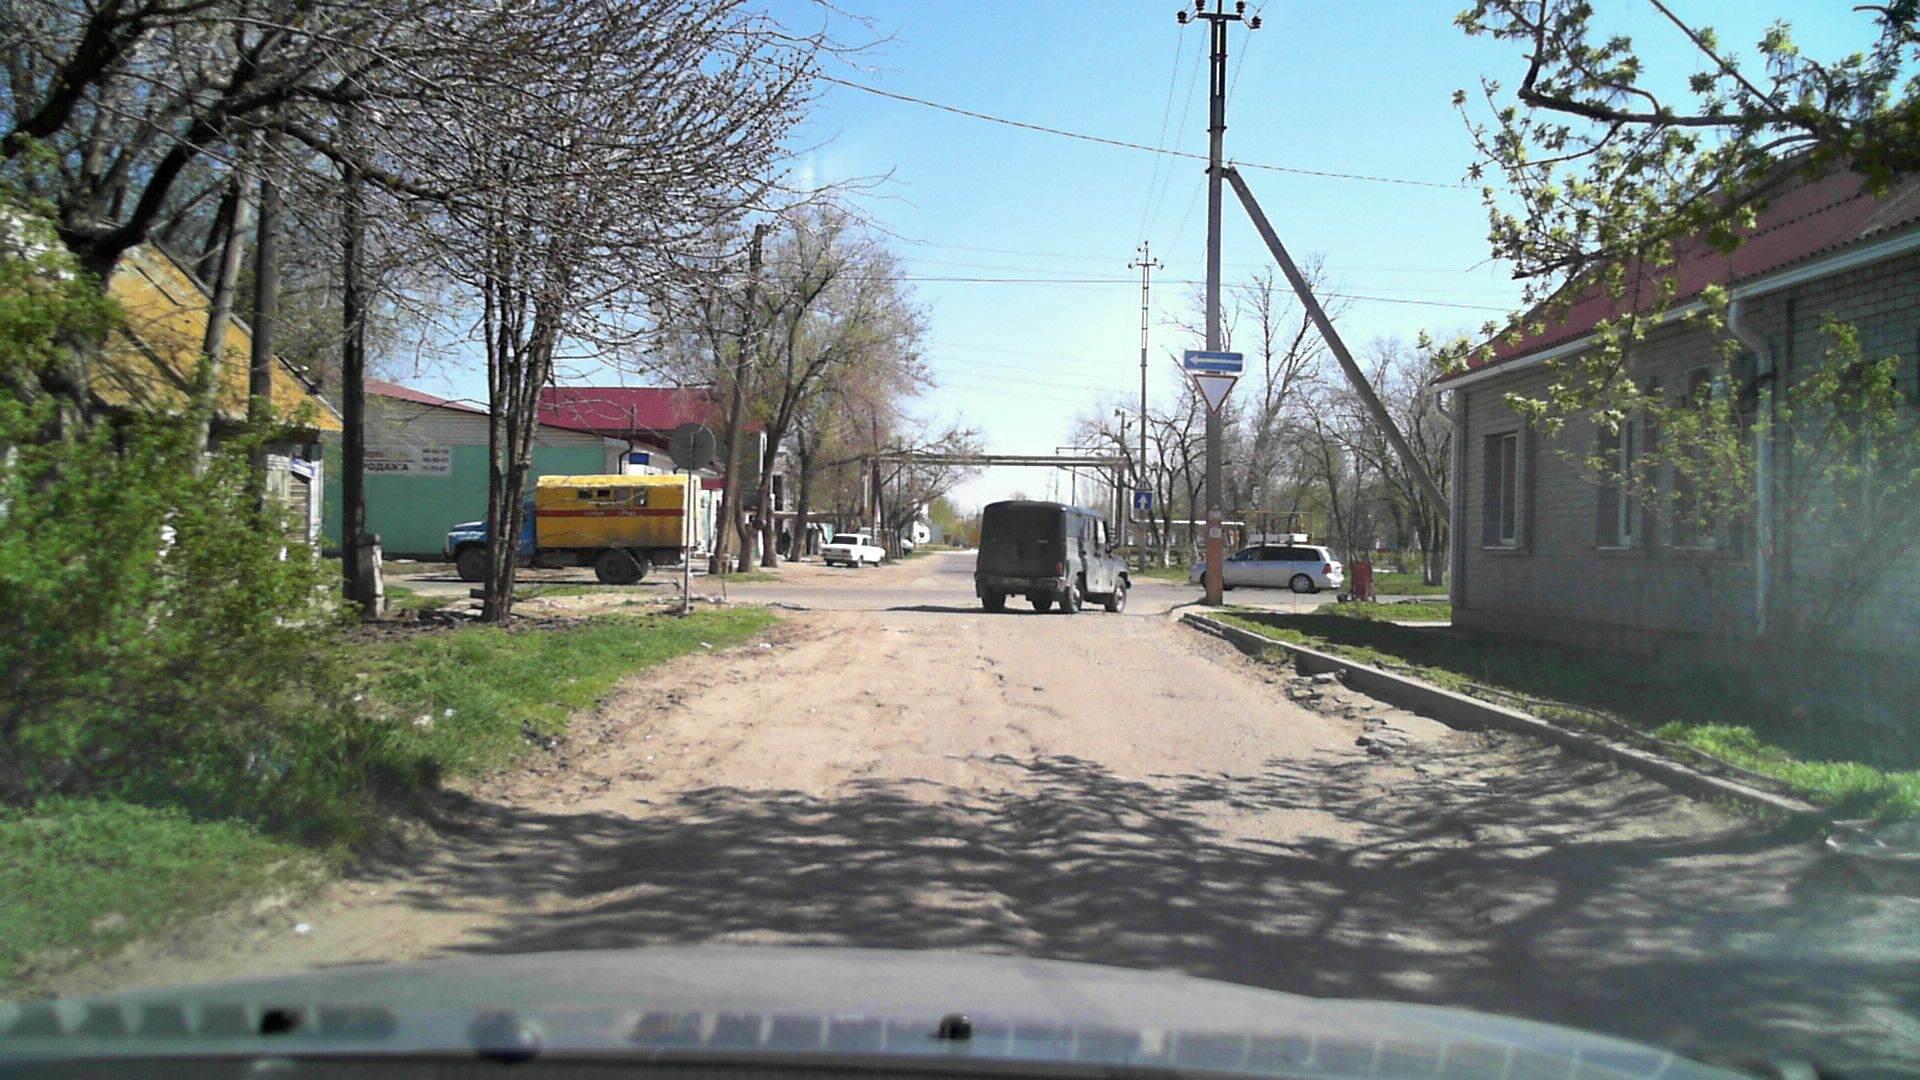One-Way Traffic: (1184, 349, 1244, 372)
